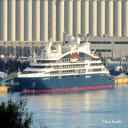cruises: (16, 33, 119, 94)
